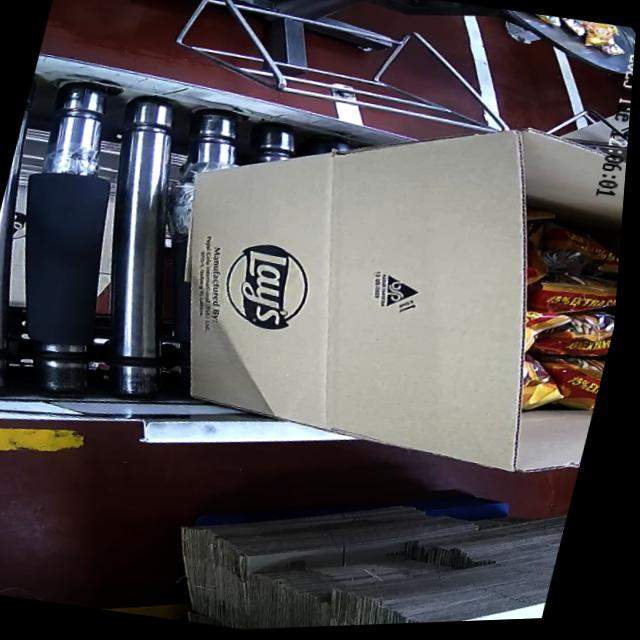FRENCH_CHEESE: (483, 202, 623, 435)
